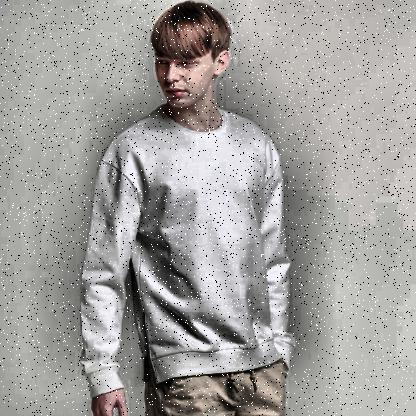sweater: (77, 106, 298, 396)
trousers: (141, 357, 289, 416)
